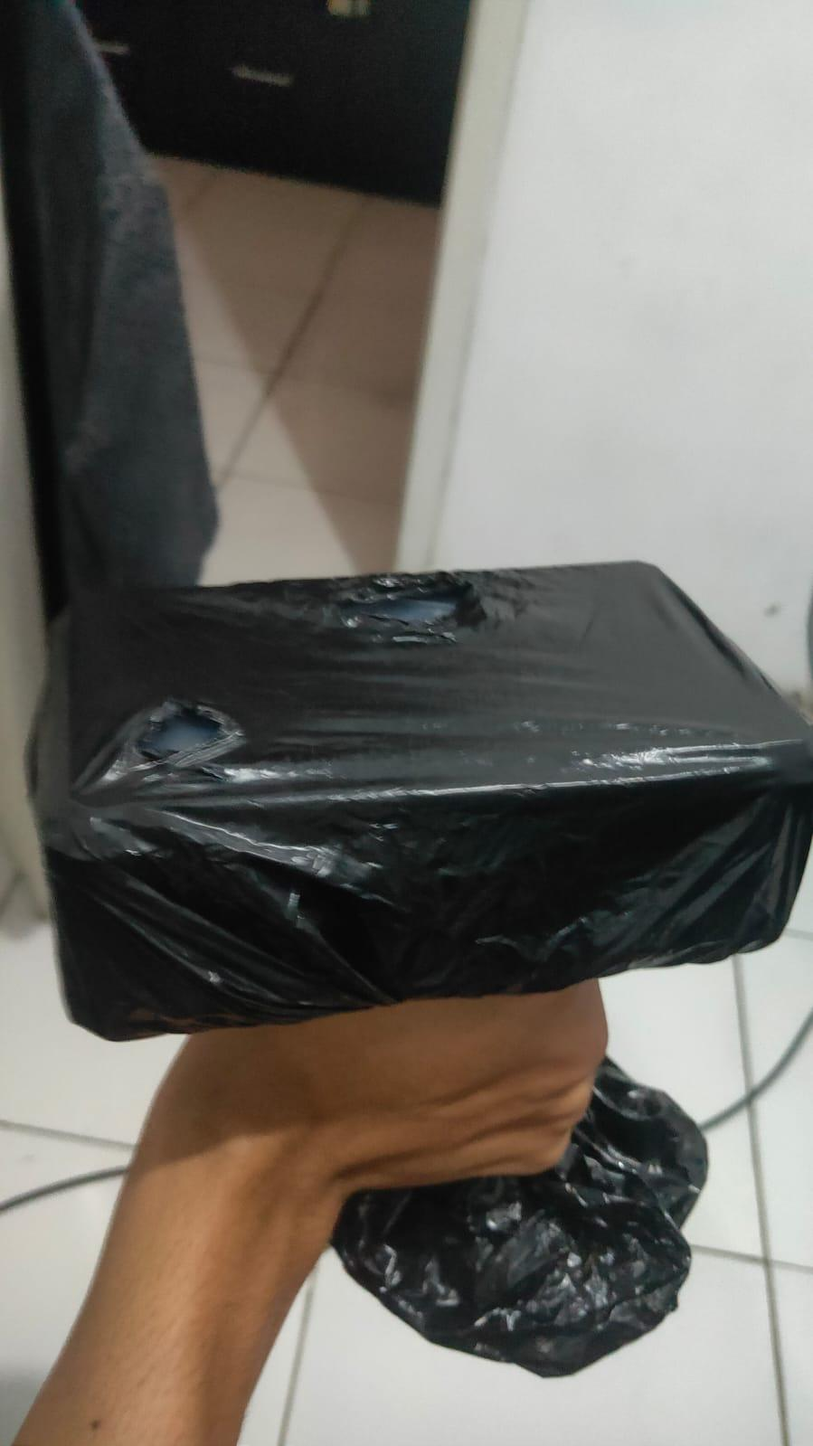damaged package: (330, 572, 488, 634), (130, 686, 244, 769)
undamaged: (0, 549, 811, 1054)
